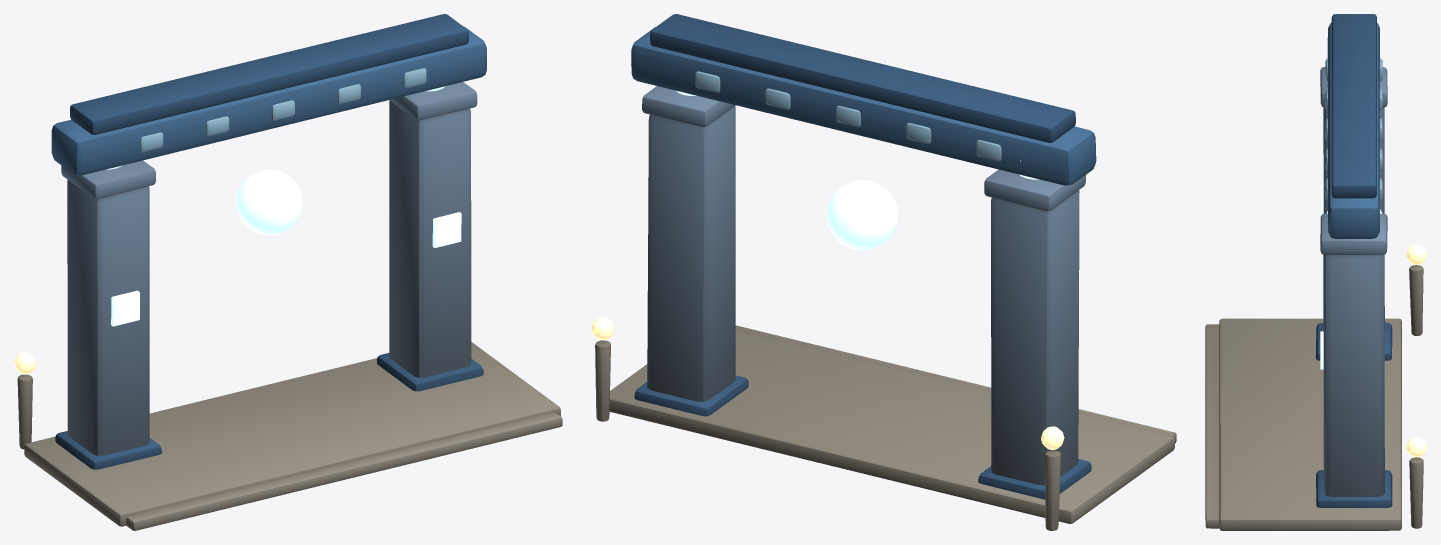
3 views of the same model, side by side, from view 1: azimuth 30°, elevation 25°; view 2: azimuth 150°, elevation 25°; view 3: azimuth 270°, elevation 25° (orthographic). The views are drawn at different scales.
Parts seen in each view (by area): view 1: gate_df374e4a; view 2: gate_df374e4a; view 3: gate_df374e4a.
Boxes of the visible parts, x1=… form: gate_df374e4a: x1=14, y1=14, x2=562, y2=530; gate_df374e4a: x1=591, y1=14, x2=1176, y2=530; gate_df374e4a: x1=1205, y1=14, x2=1426, y2=530.
Bounding box in the file's own units: 5.51 × 4.23 × 2.55.
